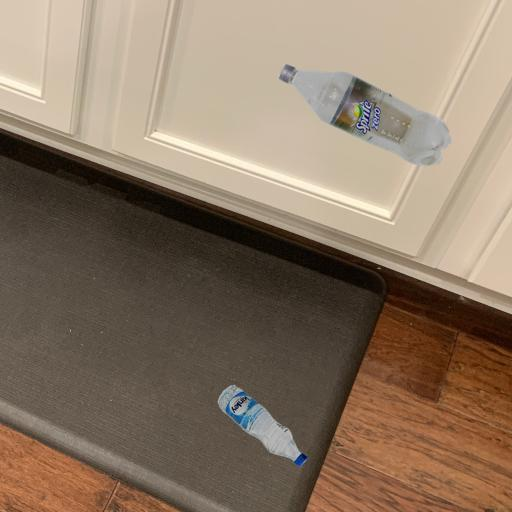bottle: (270, 62, 457, 170), (206, 376, 312, 473)
